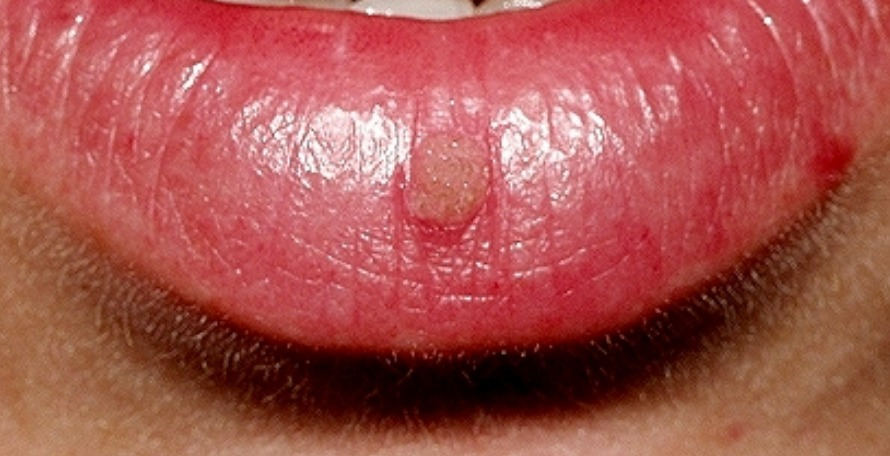Warts: (371, 110, 517, 241)
